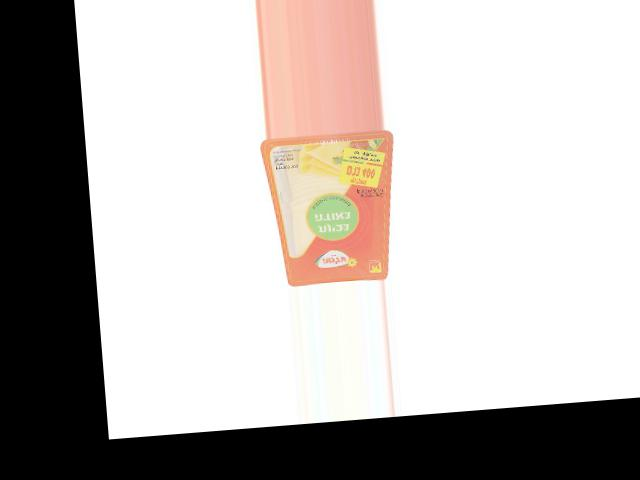cheese: (260, 128, 404, 287)
